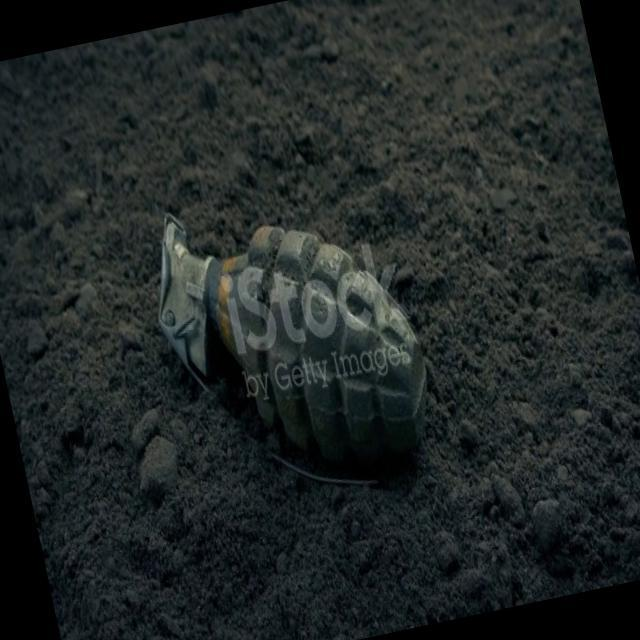grenade: (127, 157, 456, 526)
